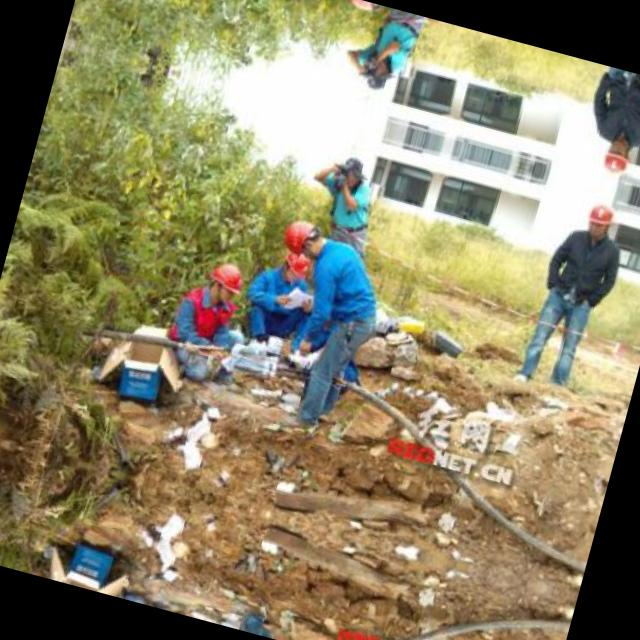helmet: (272, 211, 322, 270), (270, 246, 318, 294), (204, 254, 248, 304), (582, 198, 622, 242), (598, 136, 638, 180), (338, 0, 380, 18)
